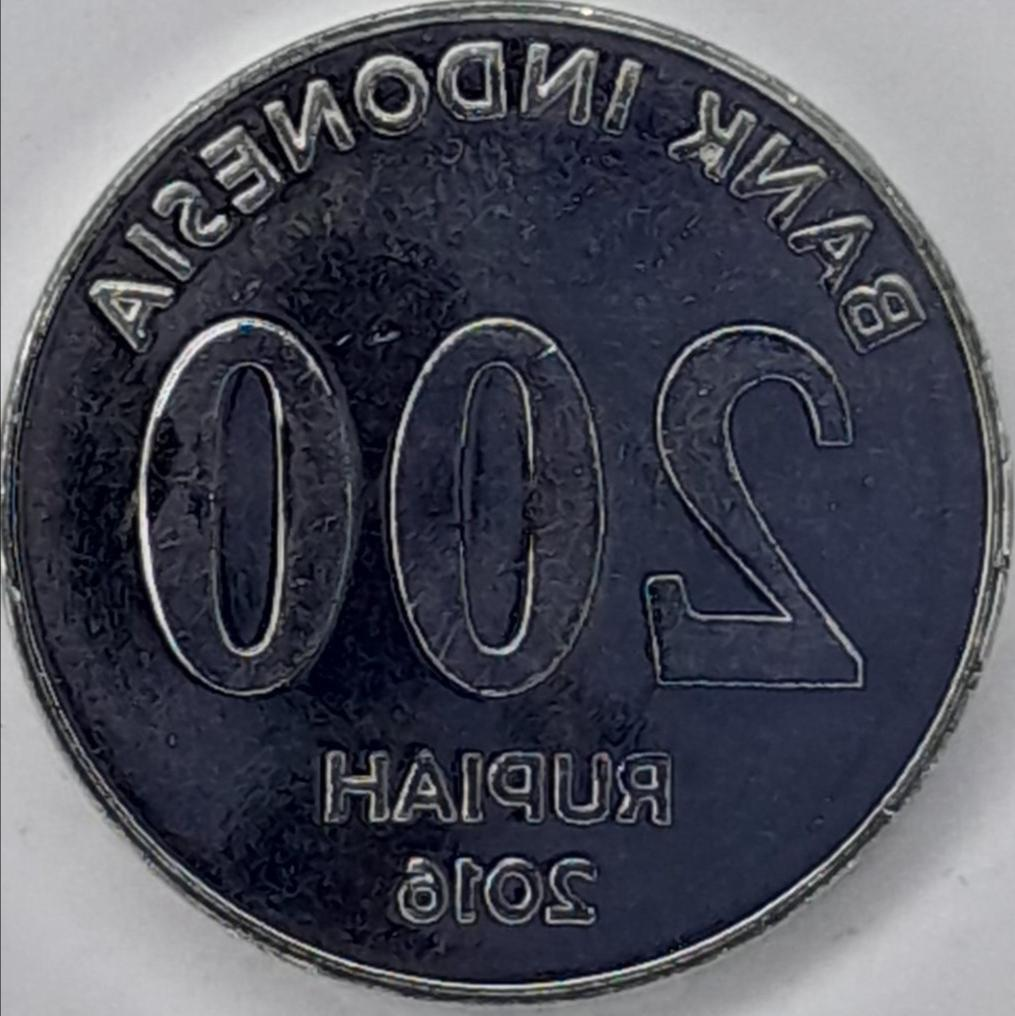coin_200_e2016: (0, 18, 1015, 1016)
